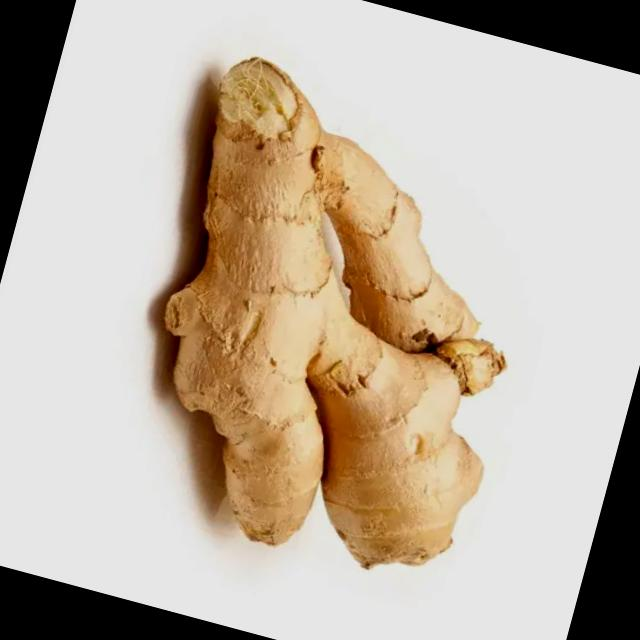ginger-root: (16, 22, 576, 610)
